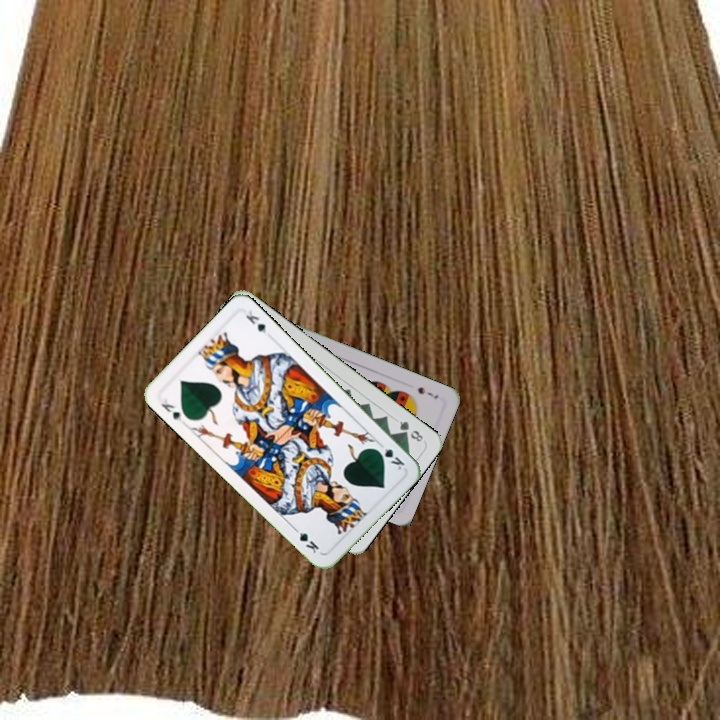G8: (395, 417, 426, 445)
GK: (371, 439, 407, 473), (157, 394, 184, 426)
S7: (413, 382, 441, 401)
